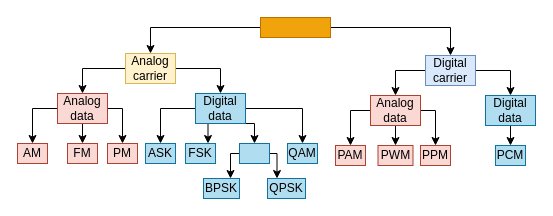
Image size: 553x216. Some labels were removed from this diagram. Here are the shapes that lost their labels. From the top down, the centre of each, then its label:
the point at 295,27: Modulation
the point at 254,153: PSK
